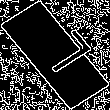L_SW: (21, 27, 89, 83)
